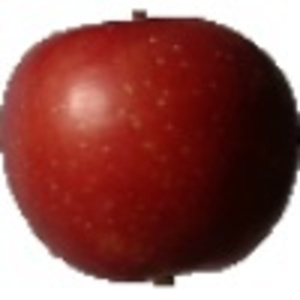maçã braeburn: (1, 8, 299, 286)
